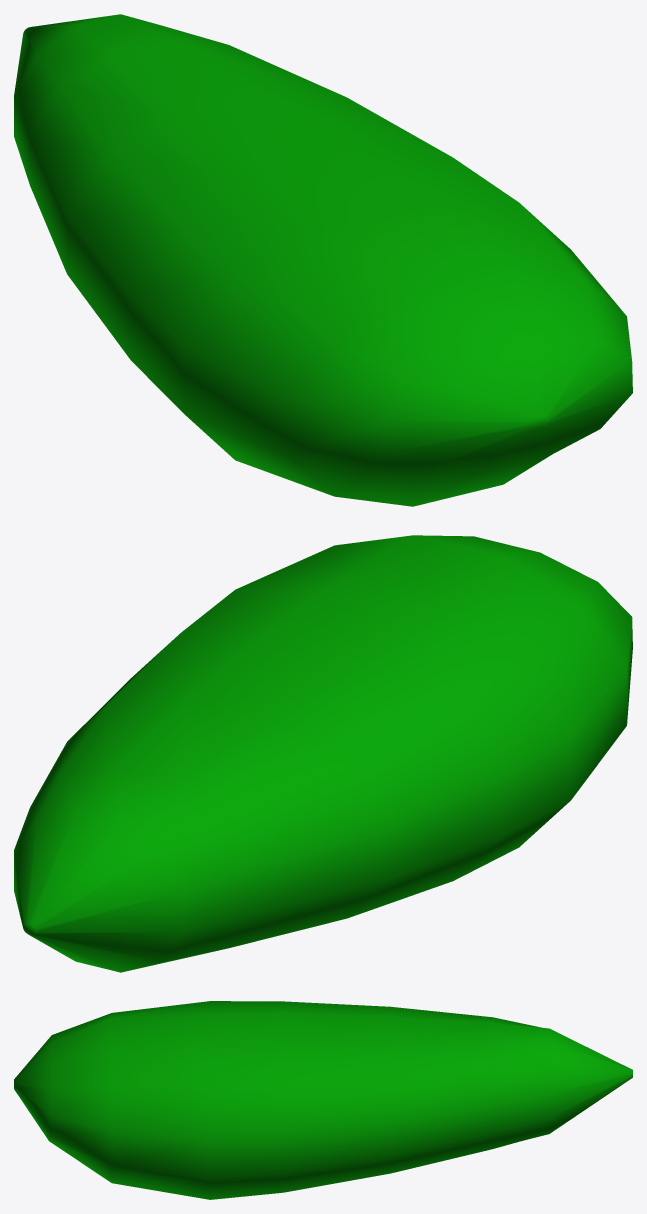
File: gasbag_aux_medium_tapered.glb
3 renders of one model, top to bottom at view 1: azimuth 30°, elevation 25°; view 2: azimuth 150°, elevation 25°; view 3: azimuth 270°, elevation 25°, orthographic. The views are drawn at different scales.
Parts seen in each view (by area): view 1: Cylinder; view 2: Cylinder; view 3: Cylinder.
Part boxes in pixels (x1,y1,x2,y2): Cylinder: [14, 14, 632, 506]; Cylinder: [14, 535, 632, 972]; Cylinder: [14, 1001, 632, 1199].
Bounding box in the file's own units: 7.19 × 4.37 × 16.34.
